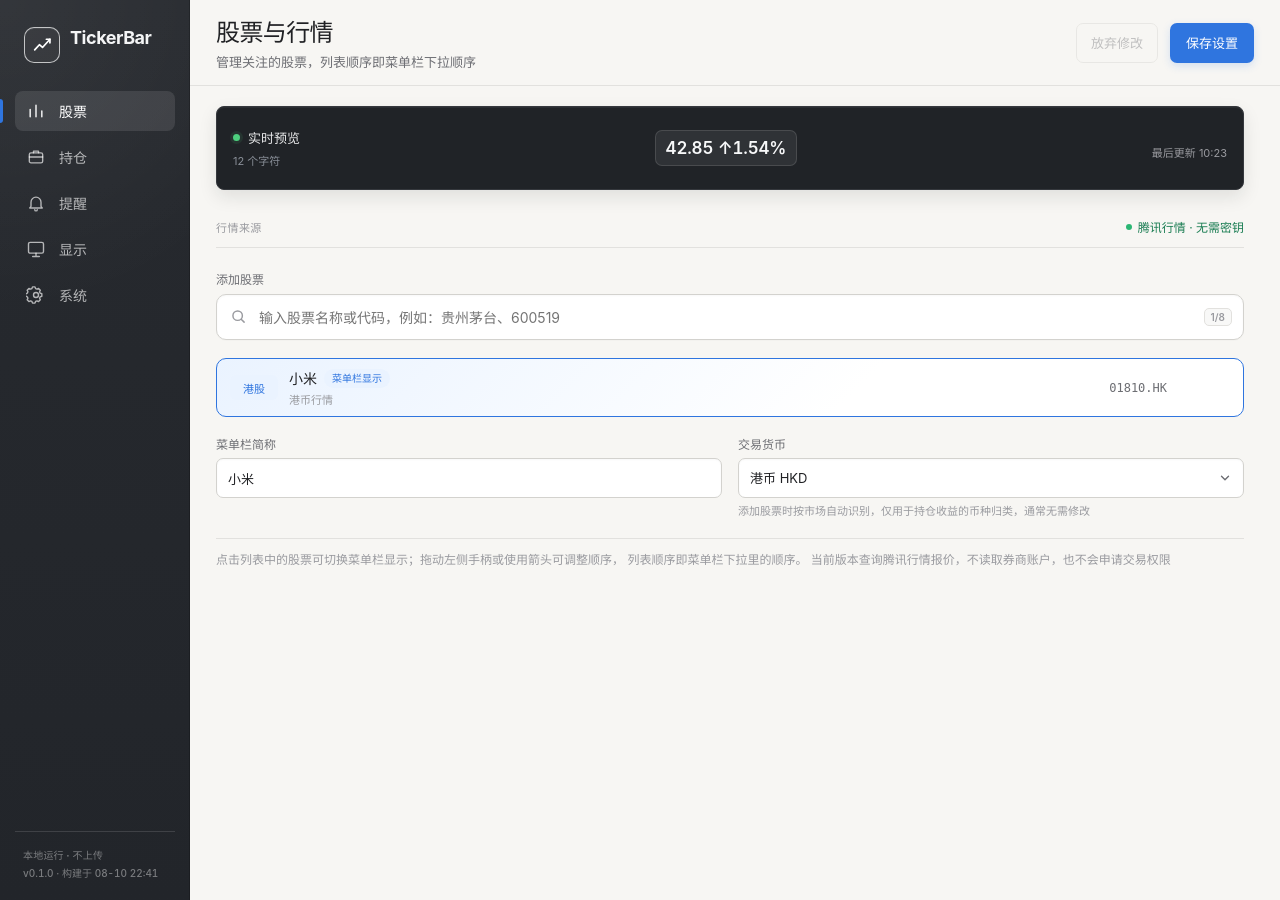
Test: TickerBar settings window › 提醒页常驻说明通知的两种去向，没有规则时也在
Step 1. Click the button with test id "nav-alerts" → (95, 203), box [15,183,175,223]
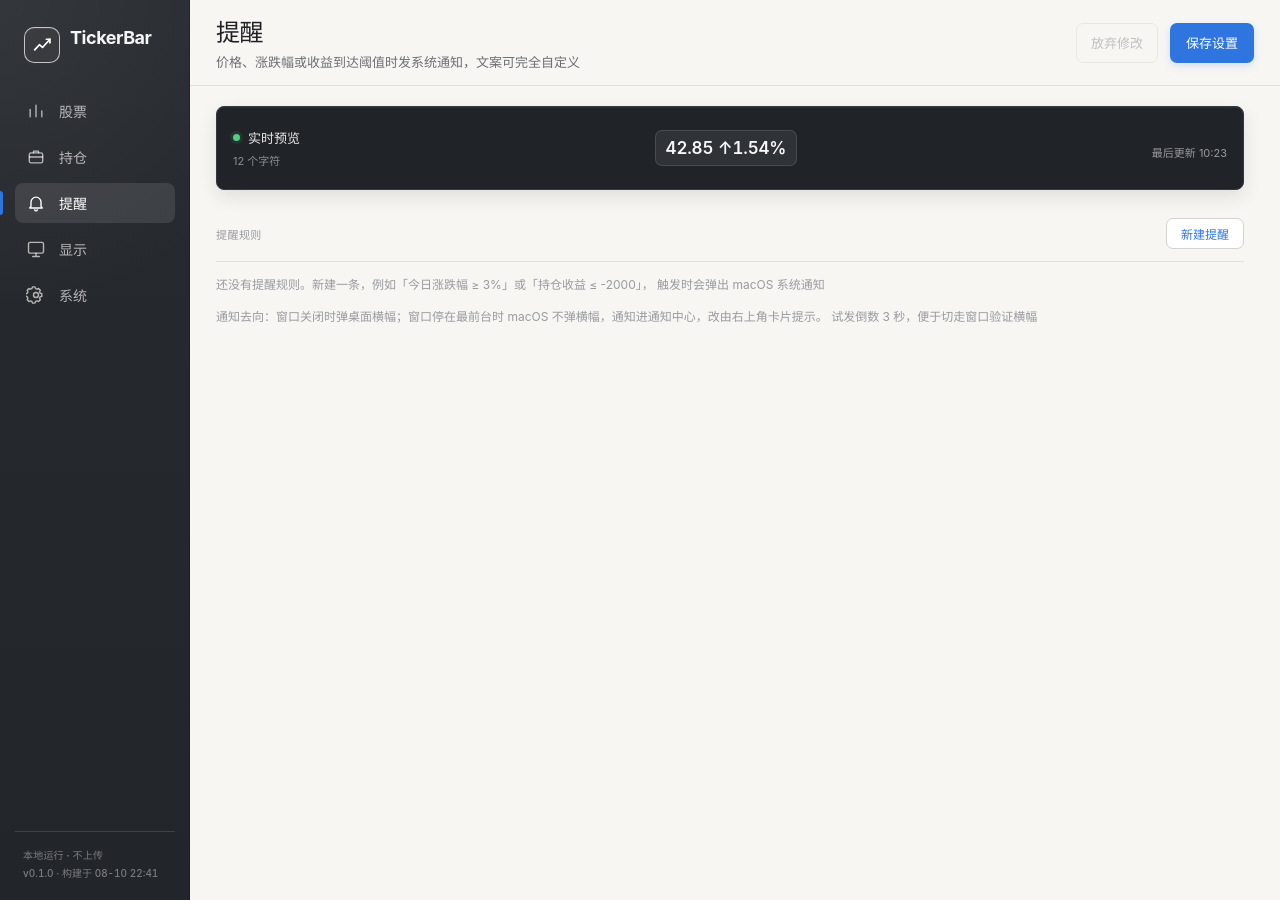
Result: the element with test id "alert-delivery-note" shows "桌面横幅" at [264,309,1037,324]
Result: the element with test id "alert-delivery-note" shows "通知中心" at [264,309,1037,324]
